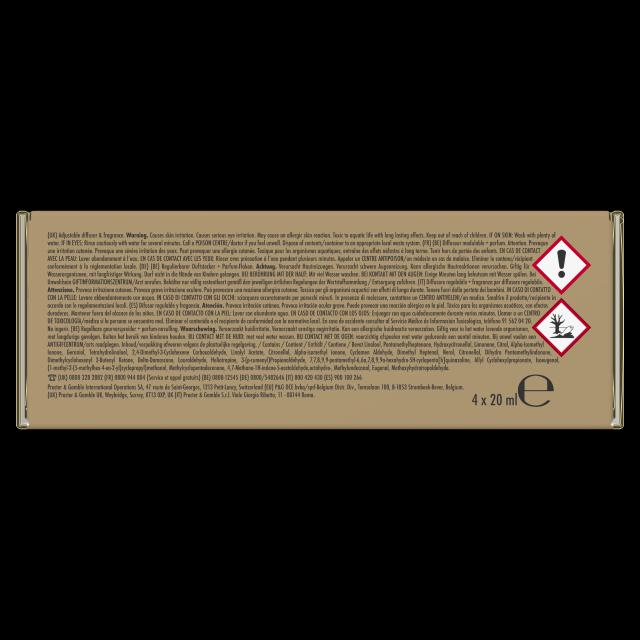GHS_Symbol_ENVIRONMENT: (532, 298, 590, 358)
GHS_Symbol_EXCLAMATION_MARK: (534, 235, 590, 294)
